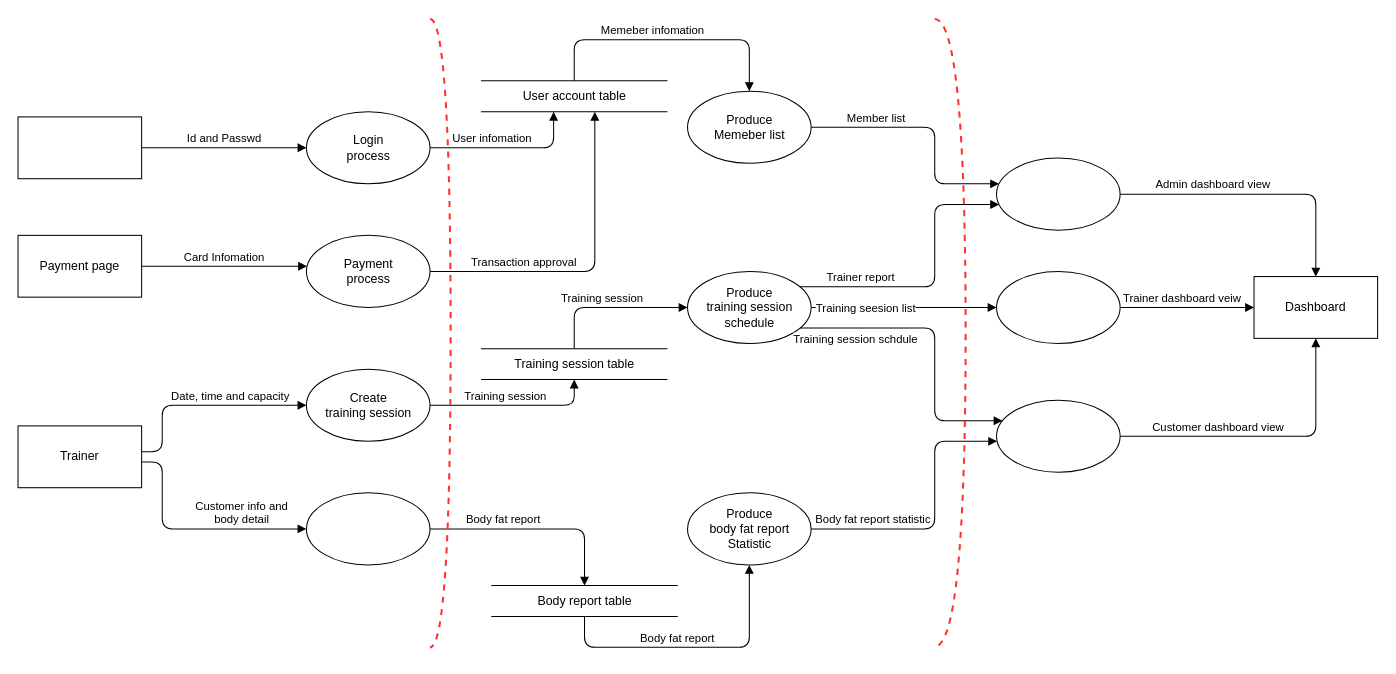
The diagram is 1396 pixels wide and 674 high, and some of its shapes have lost their labels. The shapes that lost their labels are listed below. From the top down, each one's box as (x1, y1, x2, y2) in pixels, then its label:
(17, 116, 142, 179): Login page
(995, 157, 1120, 230): Render admin dashboard
(995, 270, 1120, 344): Render trainer dashboard
(995, 399, 1120, 472): Render customer dashboard
(305, 492, 430, 565): Create body fat report
